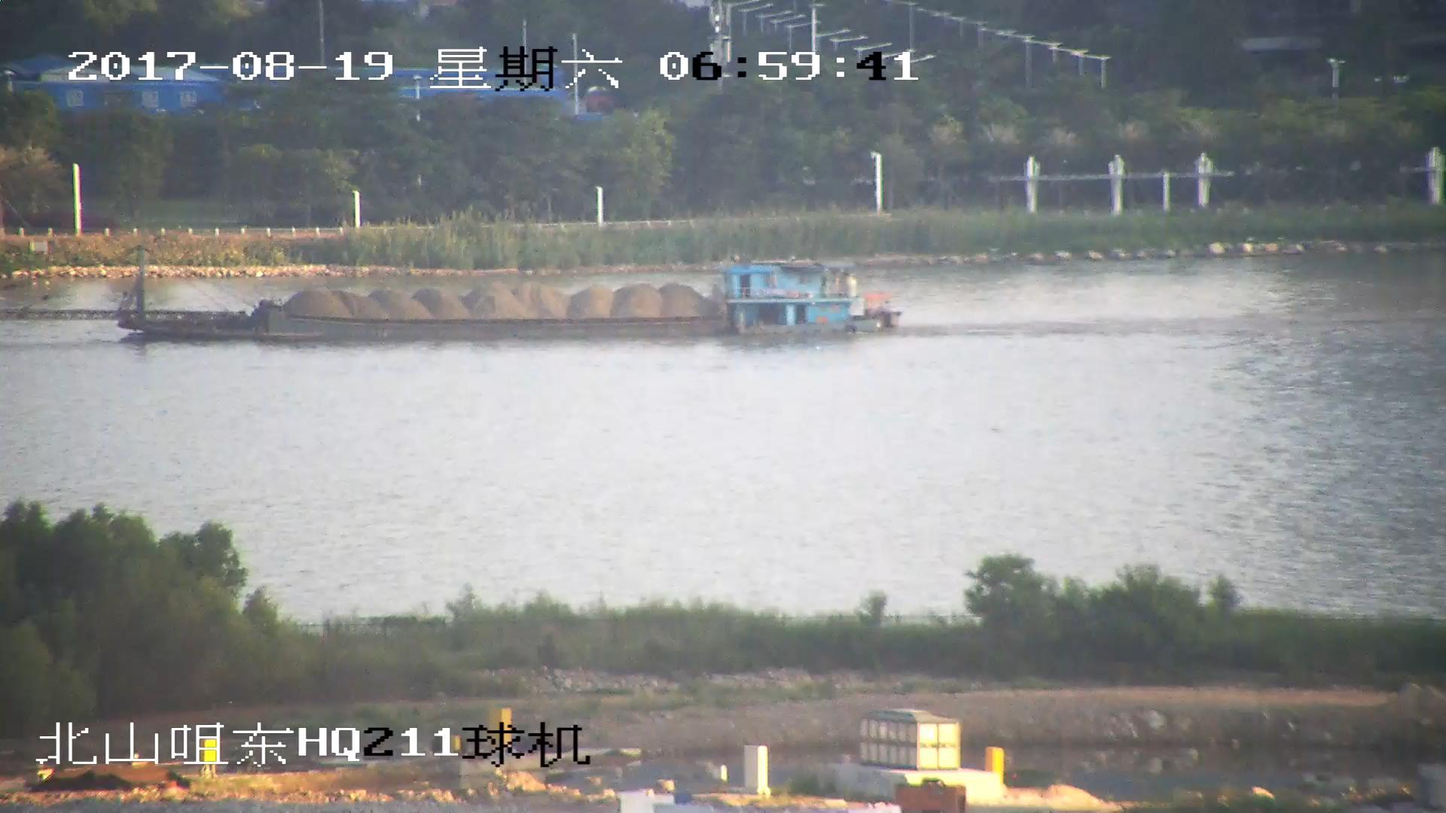ore carrier: (0, 240, 904, 334)
